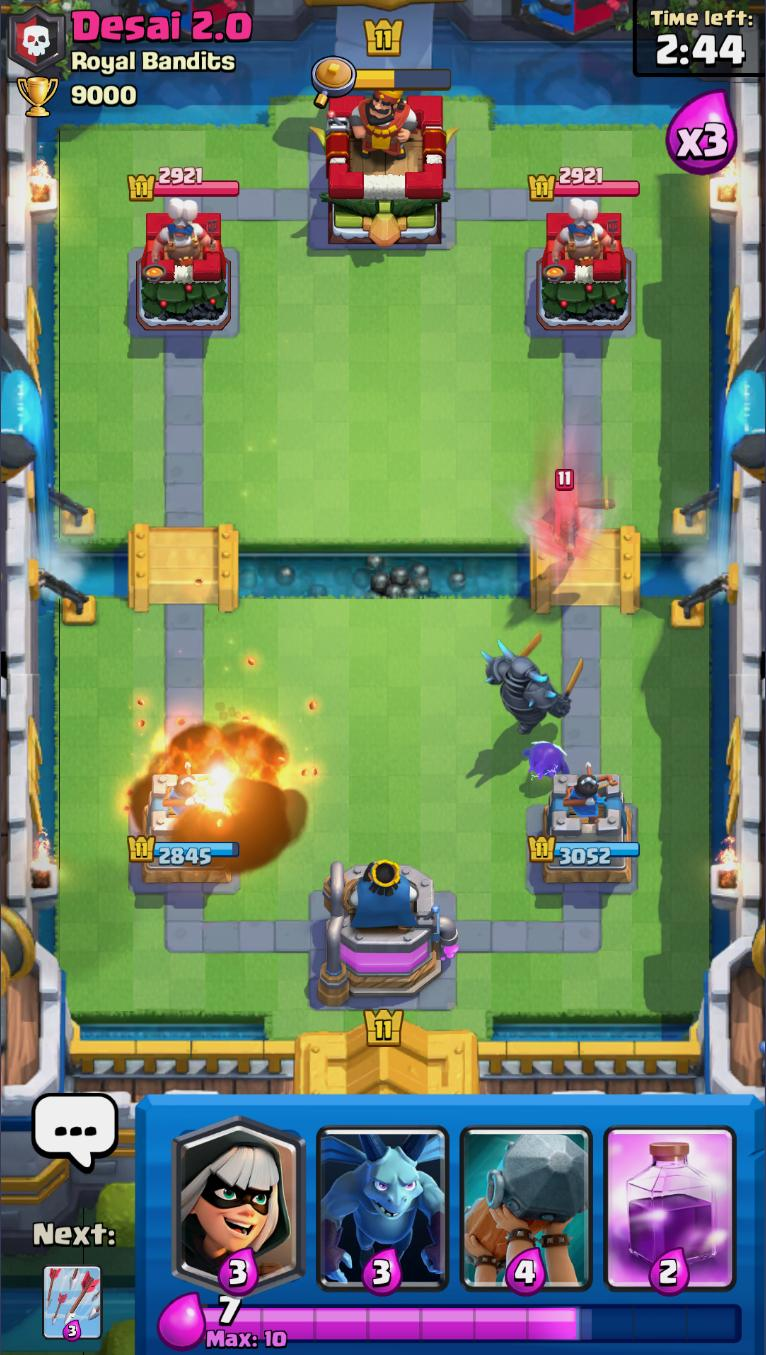ArrowNext: (41, 1259, 101, 1343)
BanditDeck: (170, 1094, 310, 1295)
BattleRamDeck: (455, 1095, 598, 1295)
BossBandit: (535, 468, 616, 563)
Chef: (549, 200, 619, 269), (149, 202, 217, 267)
Elixir: (202, 1295, 744, 1348)
EnemyTower: (535, 199, 634, 333), (136, 200, 233, 334)
FireBall: (128, 713, 305, 872)
KingTower: (309, 92, 460, 250)
MinionsDeck: (310, 1095, 455, 1295)
MyElectroSpirit: (520, 739, 574, 782)
MyKingTower: (313, 860, 460, 1006)
MyPekka: (480, 632, 584, 738)
MyPrincessTower: (528, 771, 641, 889), (128, 770, 239, 889)
MyPrincessTowerHP: (127, 837, 240, 866), (528, 838, 640, 867)
RageDeck: (599, 1095, 744, 1295)
TowerPrincessHP: (127, 169, 241, 203), (529, 169, 641, 202)
